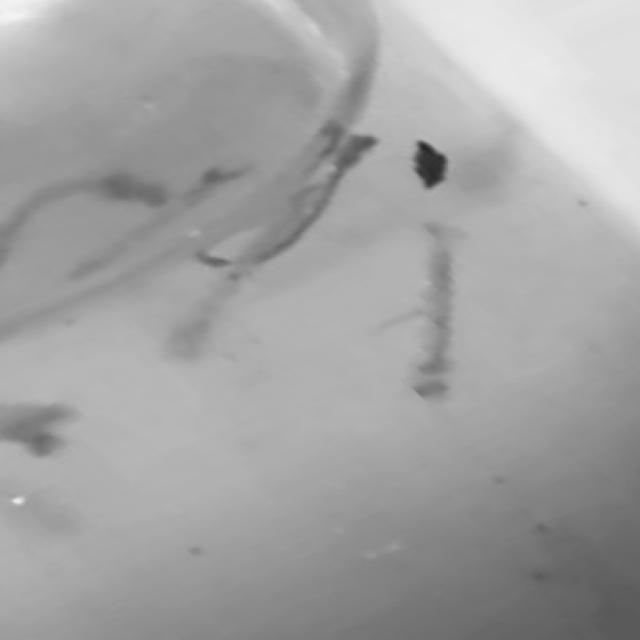larvas: (68, 157, 243, 289), (168, 214, 291, 361), (407, 229, 481, 409), (281, 130, 383, 254), (4, 174, 165, 218), (294, 116, 354, 183), (6, 398, 75, 452)
